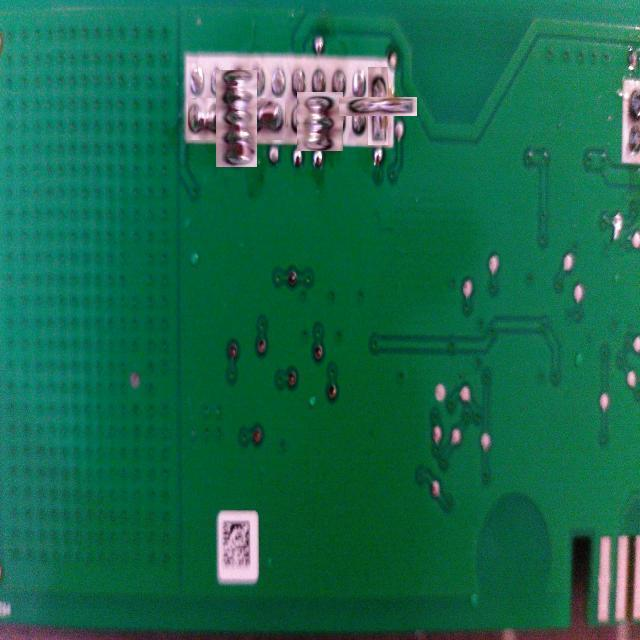Short_circuit: (202, 84, 271, 154), (294, 94, 346, 148), (353, 81, 402, 130)
